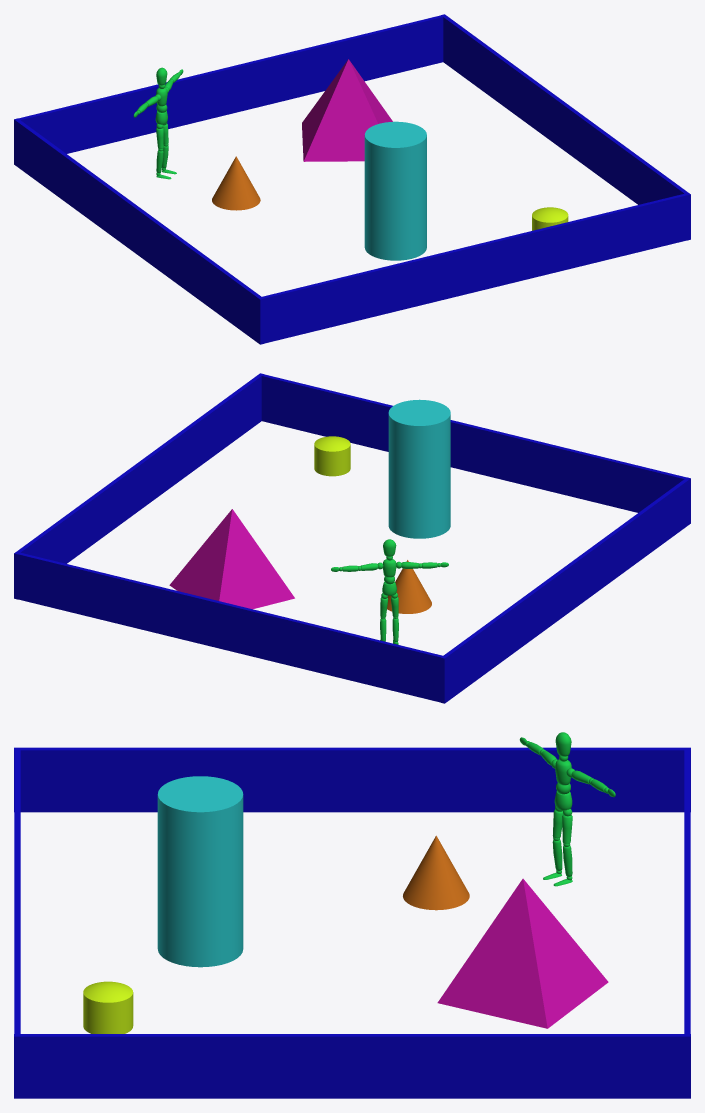
The model's file is Environment.fbx.
The picture shows the model from 3 angles, top to bottom: view 1: azimuth 30°, elevation 25°; view 2: azimuth 150°, elevation 25°; view 3: azimuth 270°, elevation 25°; orthographic projection. The views are drawn at different scales.
Parts seen in each view (by area): view 1: Wall2, Wall1, Wall3, Wall4, Cylinder, Pyramid, Cone, Oil_Tank; view 2: Wall1, Wall2, Wall3, Wall4, Cylinder, Pyramid, Oil_Tank, Cone; view 3: Wall4, Wall3, Cylinder, Pyramid, Cone, Oil_Tank, Wall1, Wall2.
Boxes of the visible parts, x1,y1,x2,y2 form: Wall2: (262,193,686,343); Wall1: (17,15,444,153); Wall3: (14,118,264,344); Wall4: (441,14,690,240); Cylinder: (364,121,426,260); Pyramid: (302,59,392,161); Cone: (212,156,260,210); Oil_Tank: (532,207,568,230); Wall1: (16,552,444,702); Wall2: (261,374,686,512); Wall3: (440,477,690,703); Wall4: (14,373,263,599); Cylinder: (388,399,450,538); Pyramid: (169,509,294,609); Oil_Tank: (314,436,350,476); Cone: (387,560,431,613); Wall4: (14,1034,690,1098); Wall3: (14,747,690,812); Cylinder: (157,776,243,967); Pyramid: (437,878,608,1028); Cone: (403,835,469,910); Oil_Tank: (83,981,133,1033); Wall1: (684,749,690,1034); Wall2: (14,749,20,1033).
Size of the model in its own units: 99.82 by 25.22 by 98.83.
